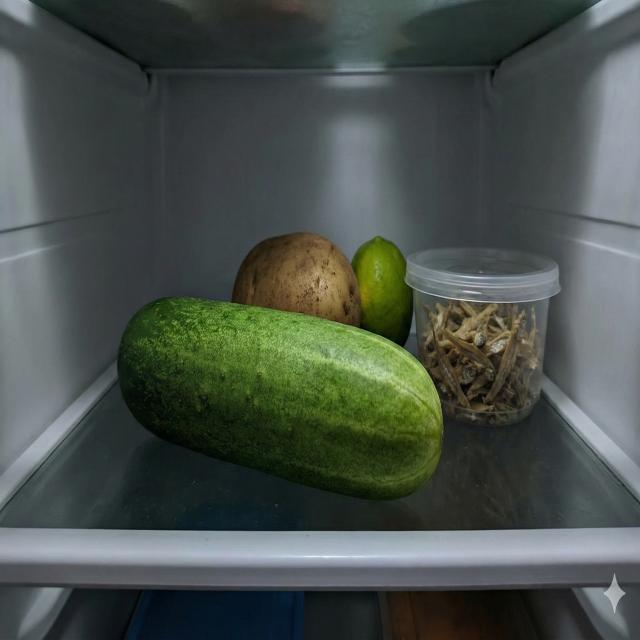anchovies: (403, 243, 562, 427)
cucumber: (117, 292, 444, 503)
lime: (351, 235, 414, 348)
potato: (232, 230, 362, 329)
